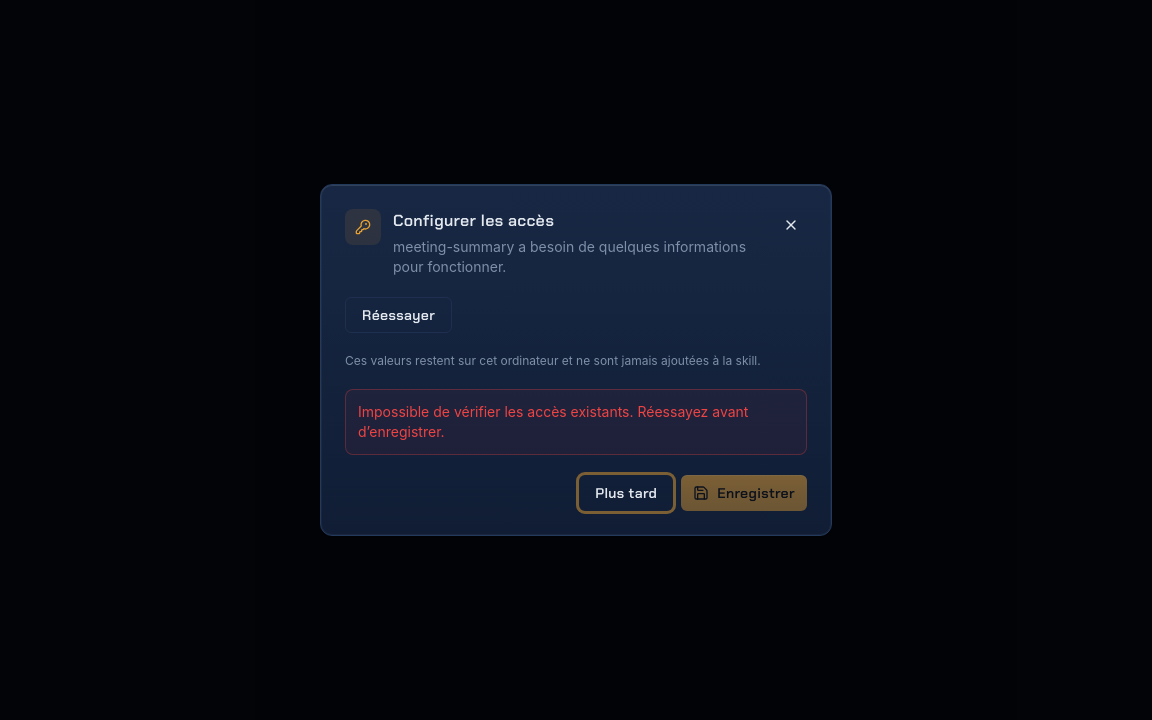
Test case: managed access configuration › announces failure to inspect saved access and requires a successful retry before editing
Expected: the message shows "Impossible de vérifier les accès existants", [358, 403, 748, 440]
Expected: the button "Enregistrer" is disabled, [681, 475, 807, 511]
Click the button "Réessayer". click: [399, 315]
box: [345, 297, 452, 333]
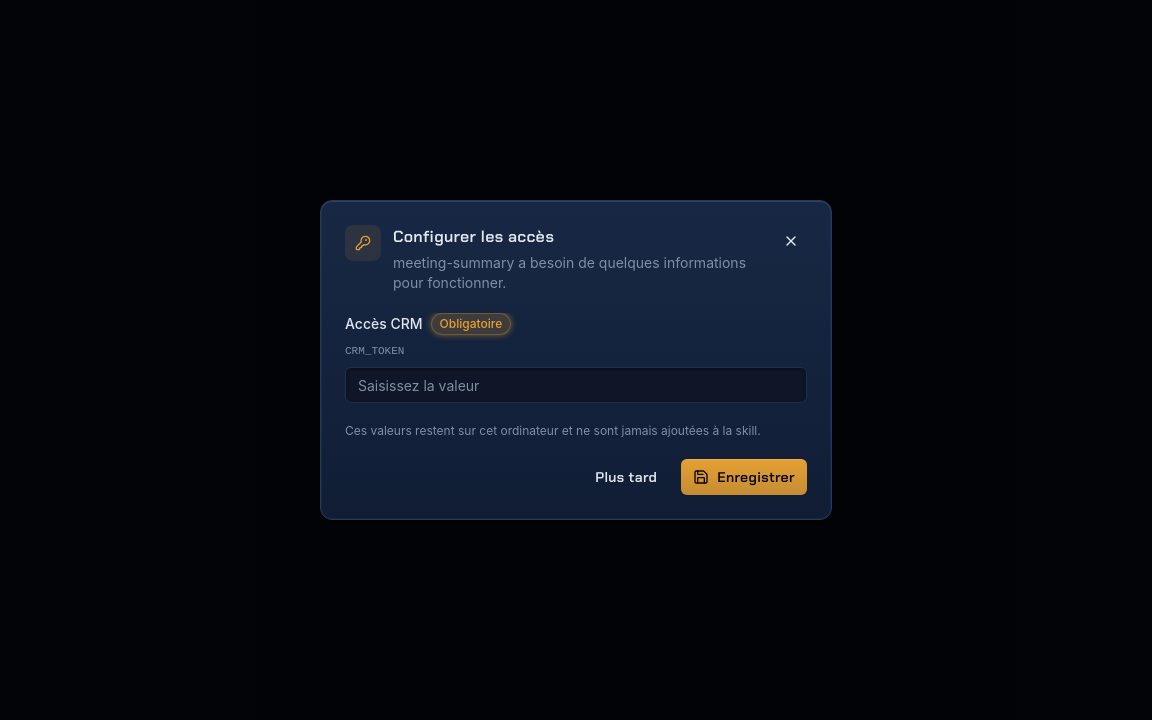
Now the password field labelled "Accès CRM" is enabled, box [345, 367, 807, 403]
